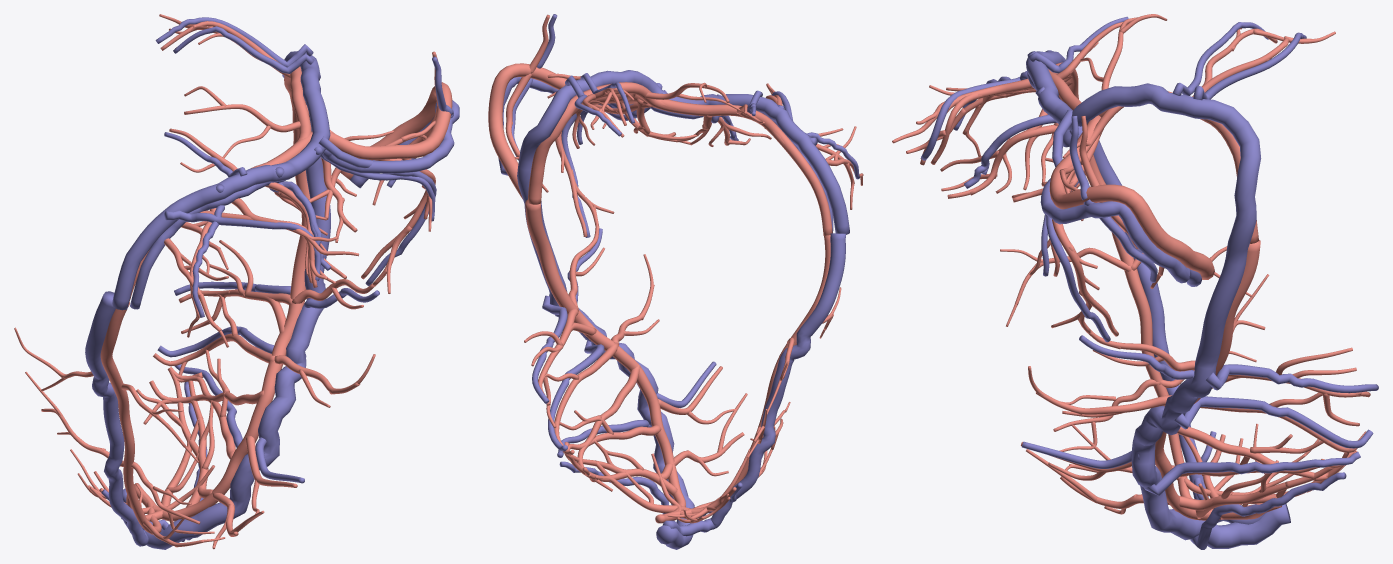
The model's file is vessels_69.glb.
3 renders of one model, left to right at view 1: azimuth 30°, elevation 25°; view 2: azimuth 150°, elevation 25°; view 3: azimuth 270°, elevation 25°, orthographic. The views are drawn at different scales.
Visible parts, largest first — view 1: Renderer Node; view 2: Renderer Node; view 3: Renderer Node.
Part boxes in pixels (box(x1,y1,x2,y2)): Renderer Node: box(14, 14, 459, 549); Renderer Node: box(488, 14, 863, 549); Renderer Node: box(892, 14, 1378, 549).
Bounding box in the file's own units: 93.41 × 117 × 91.81.
